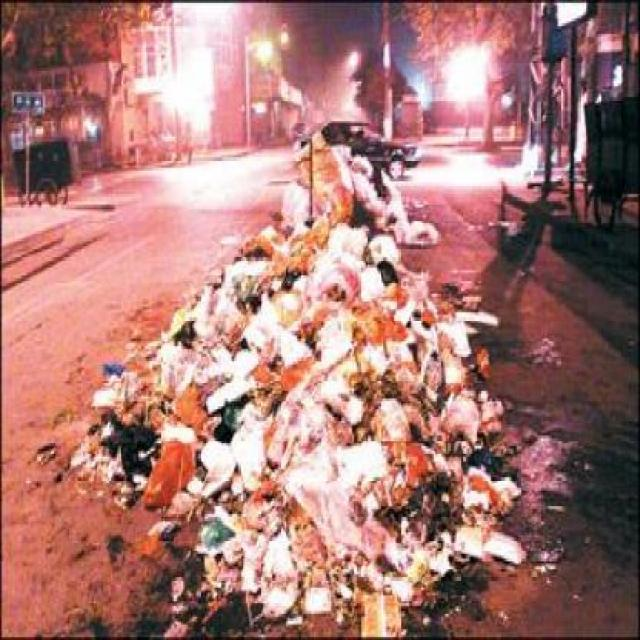garbage: (292, 145, 416, 636), (185, 243, 294, 632), (423, 279, 500, 612), (91, 346, 186, 482)
